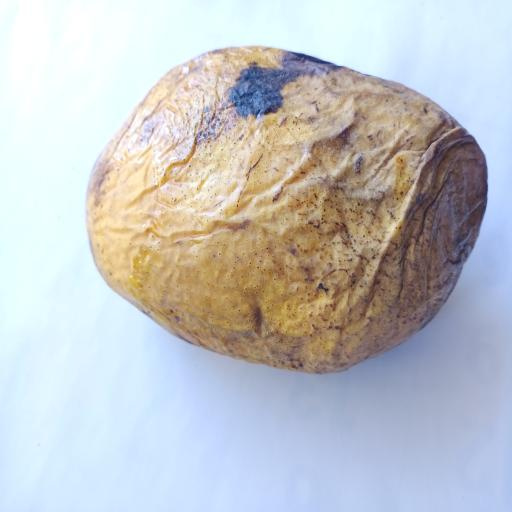mango-overripe: (77, 39, 493, 382)
